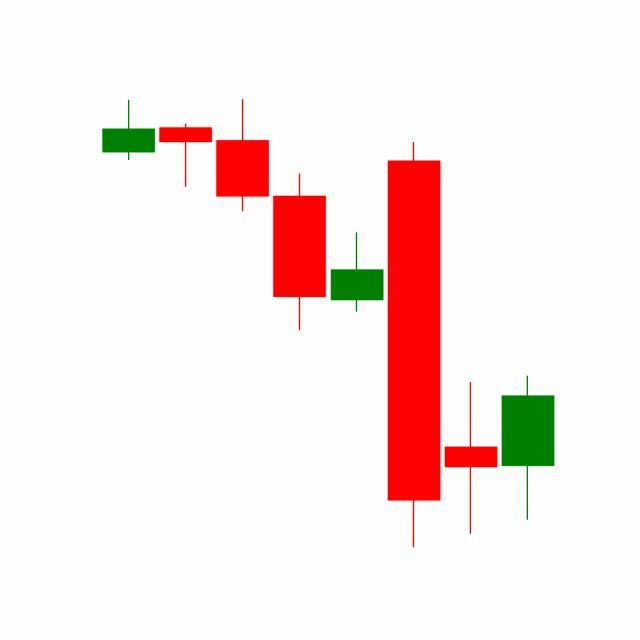Hikkake Pattern: (270, 138, 555, 549)
